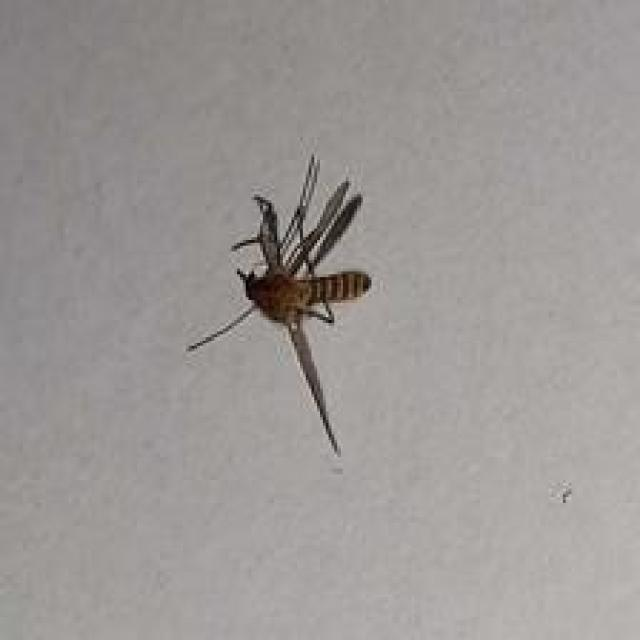Culex: (184, 153, 373, 456)
